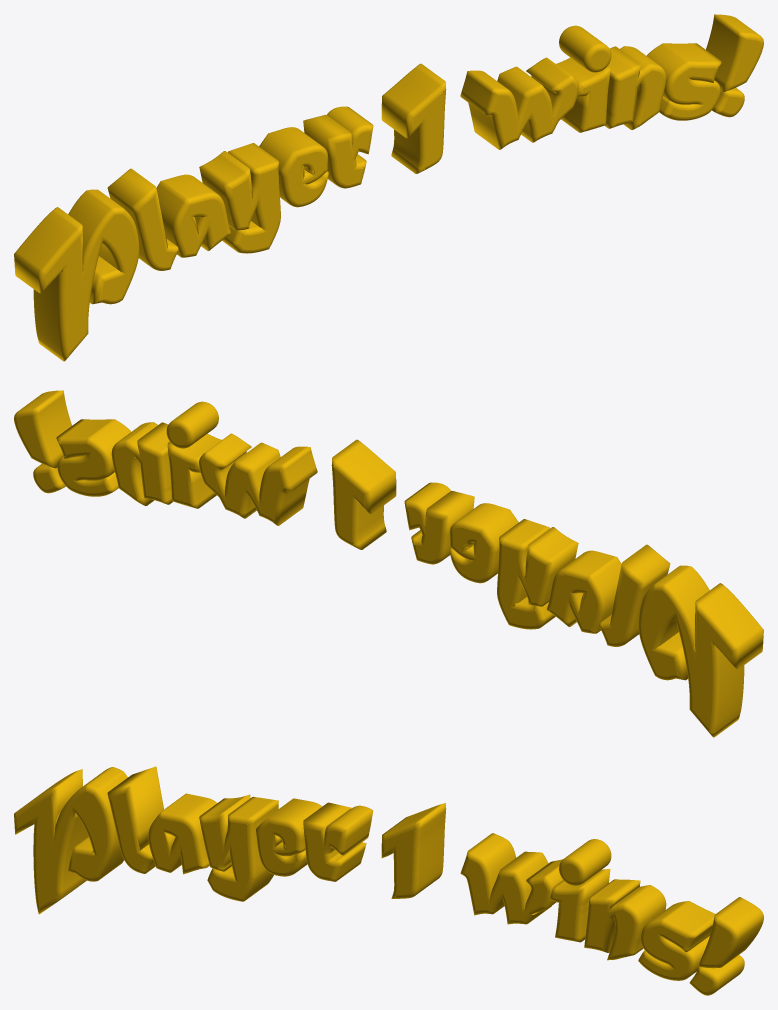
Rendered from winner_p1.fbx.
3 views of the same model, one above another, from view 1: azimuth 30°, elevation 25°; view 2: azimuth 150°, elevation 25°; view 3: azimuth 330°, elevation 25° (orthographic).
Parts seen in each view (by area): view 1: Text.001; view 2: Text.001; view 3: Text.001.
Boxes of the visible parts, x1,y1,x2,y2 form: Text.001: (14,14,763,361); Text.001: (14,390,763,737); Text.001: (14,766,763,995).
Bounding box in the file's own units: 460 × 114 × 32.
